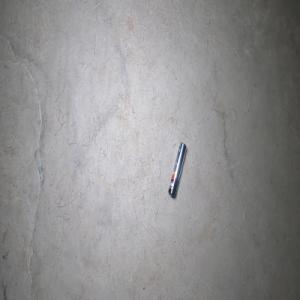Battery: (168, 141, 186, 198)
